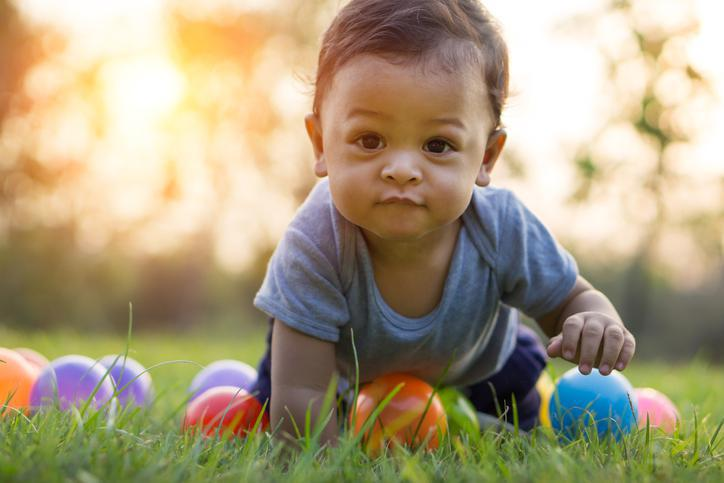child: (220, 2, 651, 447)
